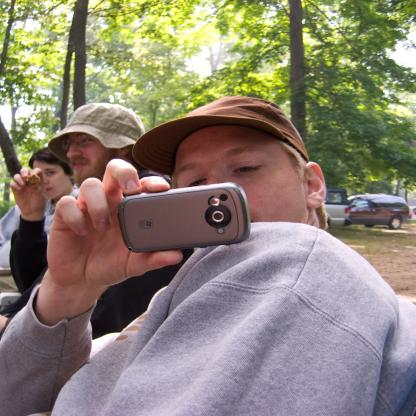Camera: (121, 184, 254, 253)
